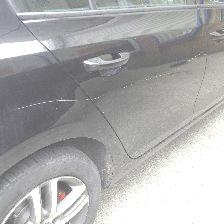door_scratch: (4, 73, 124, 117), (129, 58, 200, 87)
